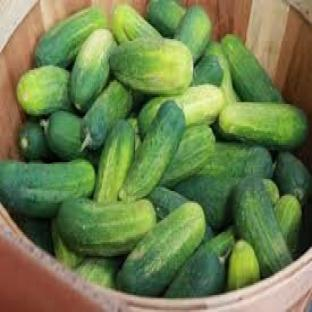Cucumber: (118, 203, 205, 296), (120, 101, 184, 201), (56, 198, 156, 257), (233, 176, 291, 277), (0, 161, 95, 218), (111, 40, 192, 95), (36, 7, 107, 68), (139, 86, 225, 136), (219, 103, 308, 150), (222, 35, 282, 102), (71, 29, 115, 112), (94, 120, 135, 204), (160, 125, 215, 187), (175, 176, 238, 230), (82, 81, 131, 150), (165, 249, 225, 298), (200, 142, 273, 179), (44, 111, 95, 160), (18, 67, 70, 115), (175, 6, 212, 63), (113, 4, 161, 44), (205, 43, 237, 103), (275, 152, 311, 204), (13, 214, 53, 254), (275, 195, 301, 255), (227, 241, 259, 289), (53, 220, 83, 269), (75, 258, 119, 288), (149, 188, 188, 219), (19, 122, 49, 161), (200, 227, 234, 257), (192, 55, 223, 86), (129, 118, 141, 150), (264, 180, 280, 204), (131, 91, 146, 112), (202, 226, 214, 243)
